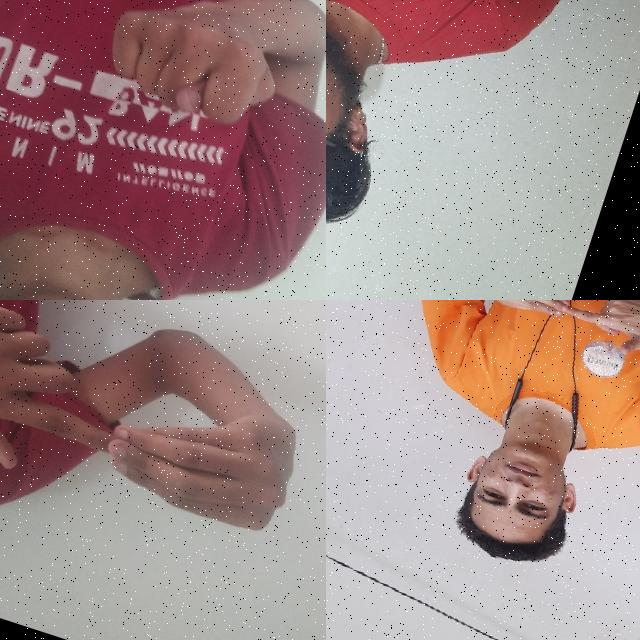Dulya: (87, 0, 316, 148)
Fist Mouth: (326, 0, 422, 241)
Five Fathers: (0, 300, 326, 568), (463, 300, 640, 381)
